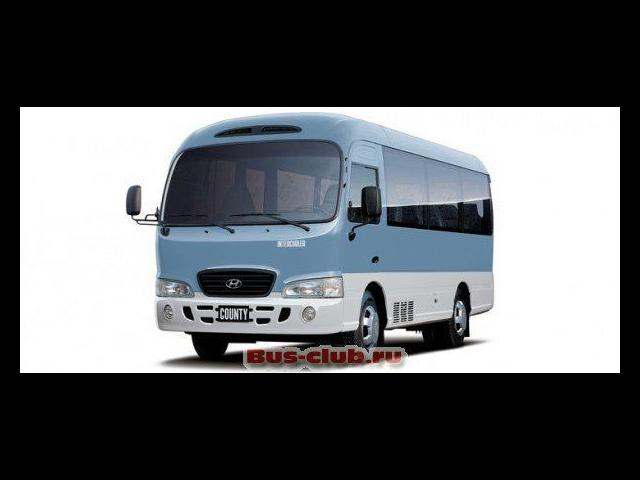bus: (115, 112, 501, 360)
